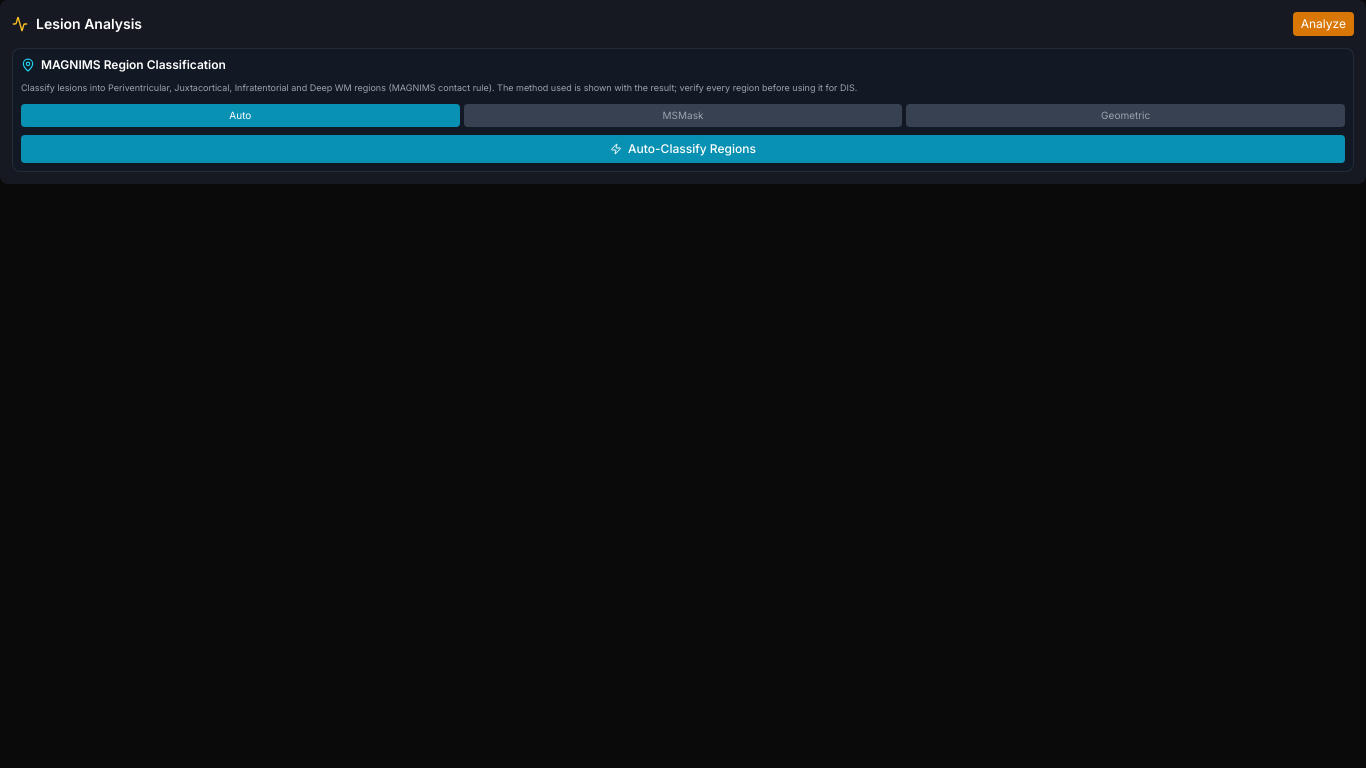
it: RC-070 the dashboard shows DIS only for a confirmed segmentation › rc070 after Analyze an unconfirmed segmentation reads "not evaluated", never met / not met
This screenshot has width=1366, height=768.
Click the button "Analyze" at (1323, 24), box [1293, 12, 1354, 36]
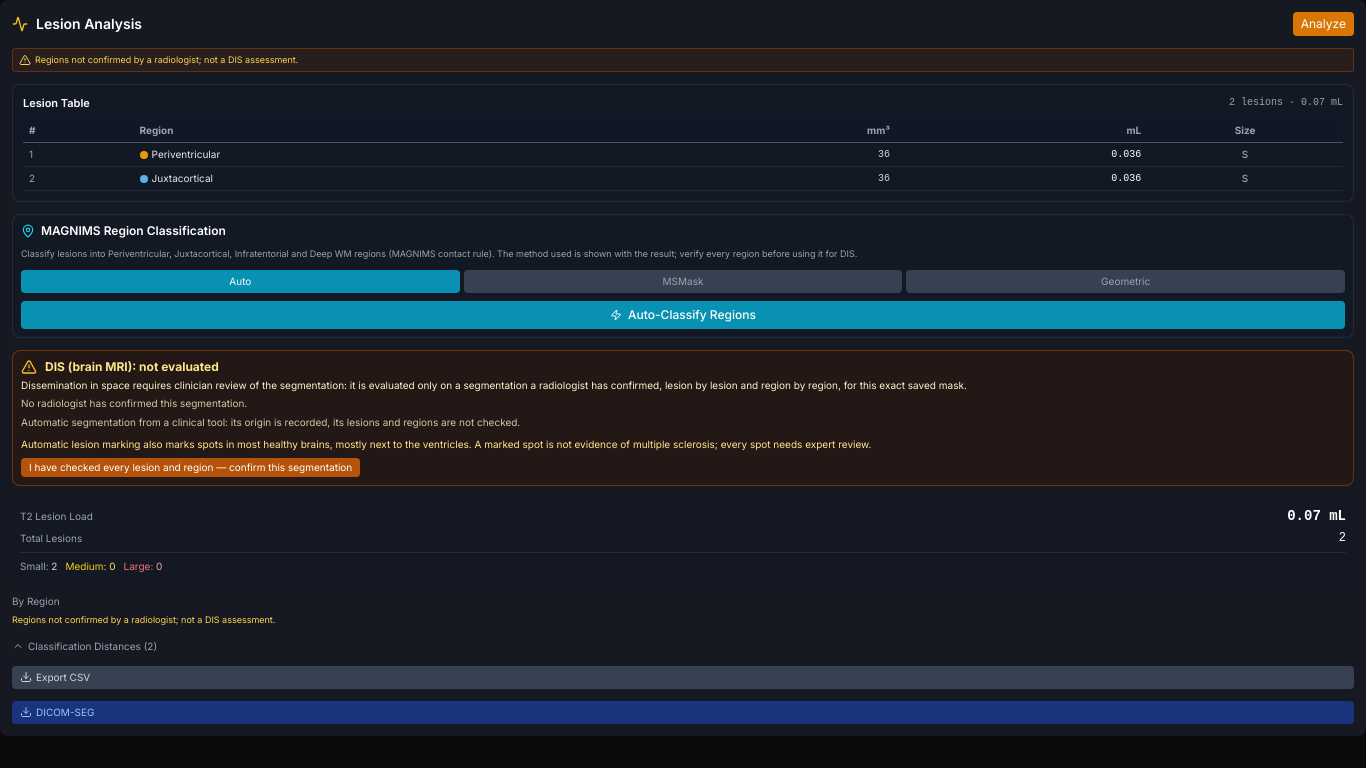
Now the message with test id "dis-not-evaluated" shows "requires clinician review of the segmentation", box [21, 379, 967, 391]
